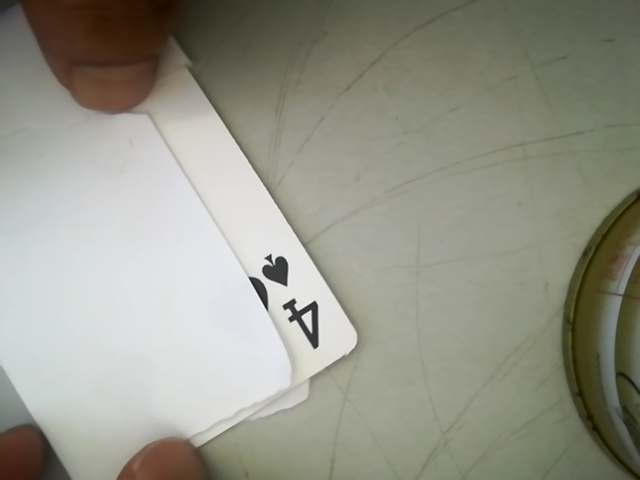ht 4: (241, 246, 342, 361)
